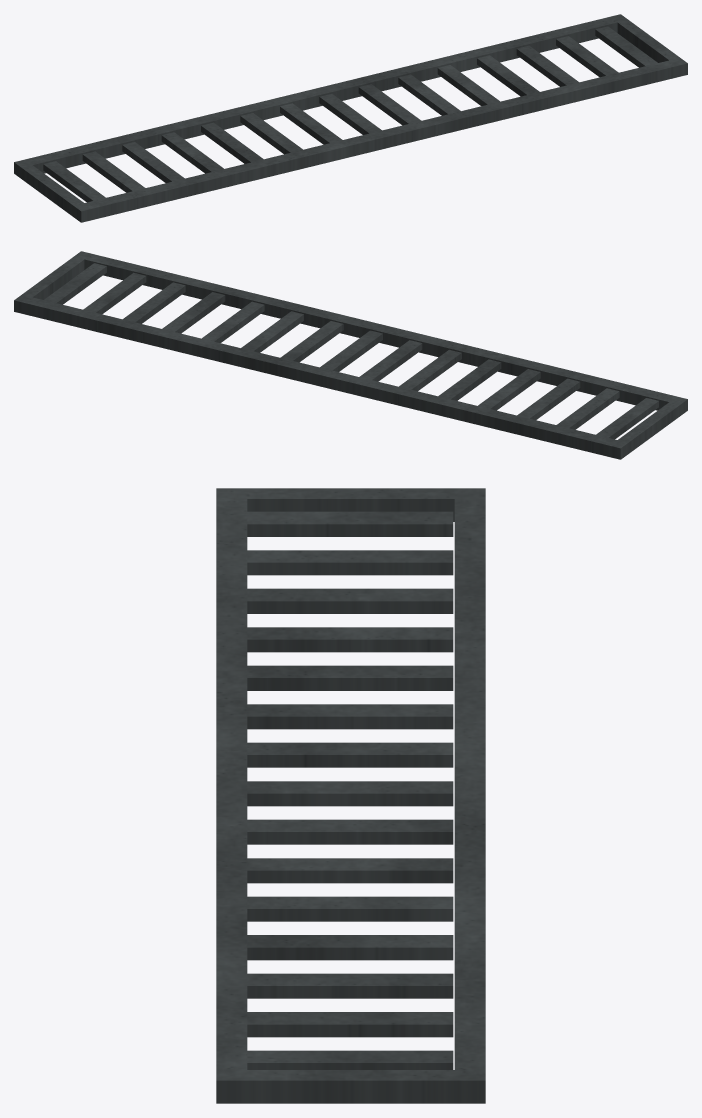
File: PZ_Drain_Grate_1m.glb
3 views of the same model, one above another, from view 1: azimuth 30°, elevation 25°; view 2: azimuth 150°, elevation 25°; view 3: azimuth 270°, elevation 25° (orthographic). The views are drawn at different scales.
Parts seen in each view (by area): view 1: PZ_Drain_Grate_1m, PZ_Drain_Grate_1m__Steel_Rail_Road, PZ_Drain_Grate_1m__Steel_Rail_Curb, PZ_Drain_Grate_1m__Steel_End_Left, PZ_Drain_Grate_1m__Steel_End_Right; view 2: PZ_Drain_Grate_1m, PZ_Drain_Grate_1m__Steel_Rail_Curb, PZ_Drain_Grate_1m__Steel_Rail_Road, PZ_Drain_Grate_1m__Steel_End_Left, PZ_Drain_Grate_1m__Steel_End_Right; view 3: PZ_Drain_Grate_1m, PZ_Drain_Grate_1m__Steel_Rail_Curb, PZ_Drain_Grate_1m__Steel_Rail_Road, PZ_Drain_Grate_1m__Steel_End_Right, PZ_Drain_Grate_1m__Steel_End_Left.
Part boxes in pixels (x1,y1,x2,y2): PZ_Drain_Grate_1m: (43,26,657,202); PZ_Drain_Grate_1m__Steel_Rail_Road: (73,58,687,222); PZ_Drain_Grate_1m__Steel_Rail_Curb: (14,14,627,178); PZ_Drain_Grate_1m__Steel_End_Left: (16,164,84,216); PZ_Drain_Grate_1m__Steel_End_Right: (613,16,679,62); PZ_Drain_Grate_1m: (44,263,658,439); PZ_Drain_Grate_1m__Steel_Rail_Curb: (14,295,626,459); PZ_Drain_Grate_1m__Steel_Rail_Road: (74,251,687,413); PZ_Drain_Grate_1m__Steel_End_Left: (613,402,682,457); PZ_Drain_Grate_1m__Steel_End_Right: (17,255,86,299); PZ_Drain_Grate_1m: (247,511,453,1069); PZ_Drain_Grate_1m__Steel_Rail_Curb: (454,488,485,1103); PZ_Drain_Grate_1m__Steel_Rail_Road: (216,488,247,1103); PZ_Drain_Grate_1m__Steel_End_Right: (237,1070,475,1103); PZ_Drain_Grate_1m__Steel_End_Left: (237,488,475,521).
Bounding box in the file's own units: 1 × 0.018 × 0.192.
Materials: 1 (1 with a texture image).
